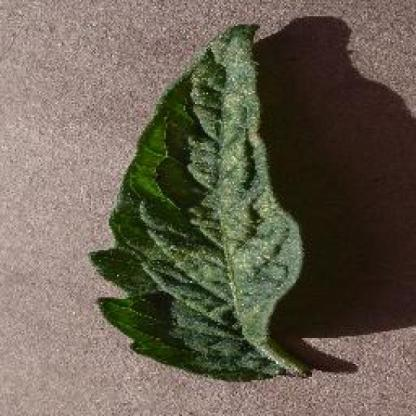Tomato_Spider_Mites: (89, 23, 303, 380)
